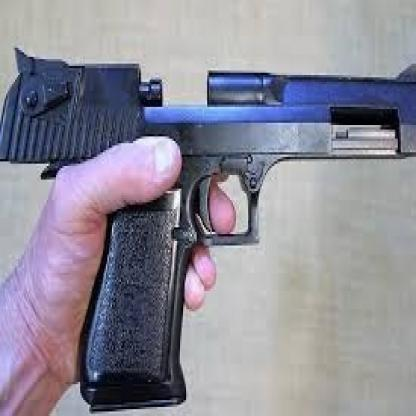Pistol: (1, 45, 416, 414)
